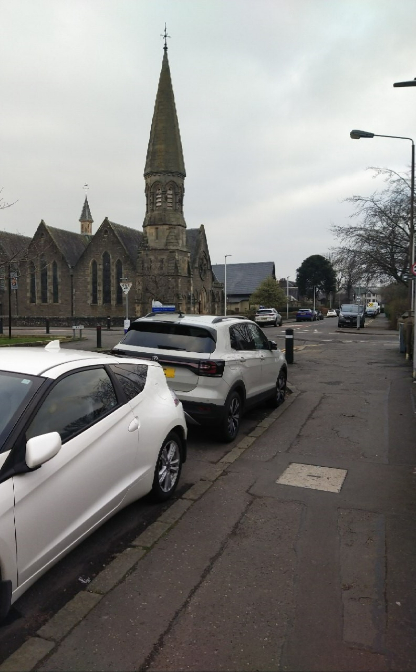car: (0, 331, 182, 618), (122, 291, 290, 435), (339, 305, 369, 333), (252, 307, 285, 329), (296, 302, 320, 329), (367, 300, 385, 313), (324, 308, 338, 319)
tree: (340, 177, 416, 298), (288, 251, 343, 300), (249, 273, 287, 307)
